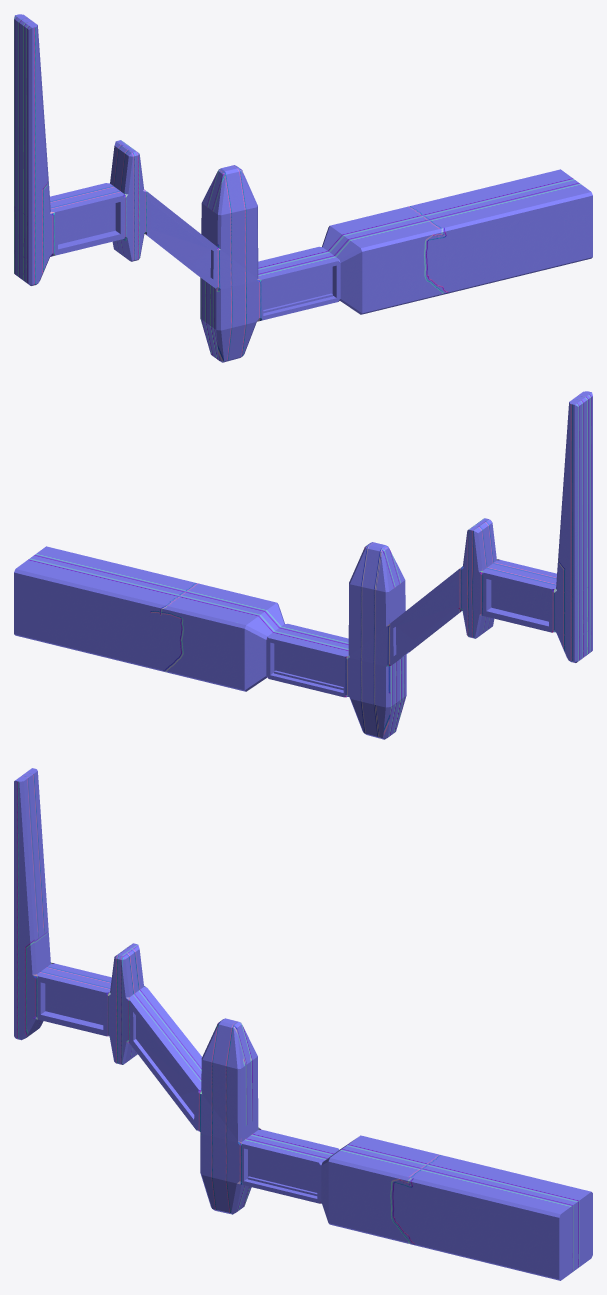
File: Roof deco.fbx
3 views of the same model, one above another, from view 1: azimuth 30°, elevation 25°; view 2: azimuth 150°, elevation 25°; view 3: azimuth 330°, elevation 25° (orthographic).
Visible parts, largest first — view 1: Cube.057; view 2: Cube.057; view 3: Cube.057.
Part boxes in pixels (left/top/right/bottom): Cube.057: left=14, top=14, right=592, bottom=362; Cube.057: left=14, top=391, right=592, bottom=739; Cube.057: left=14, top=768, right=592, bottom=1280.
Bounding box in the file's own units: 7798 × 5185 × 820.
